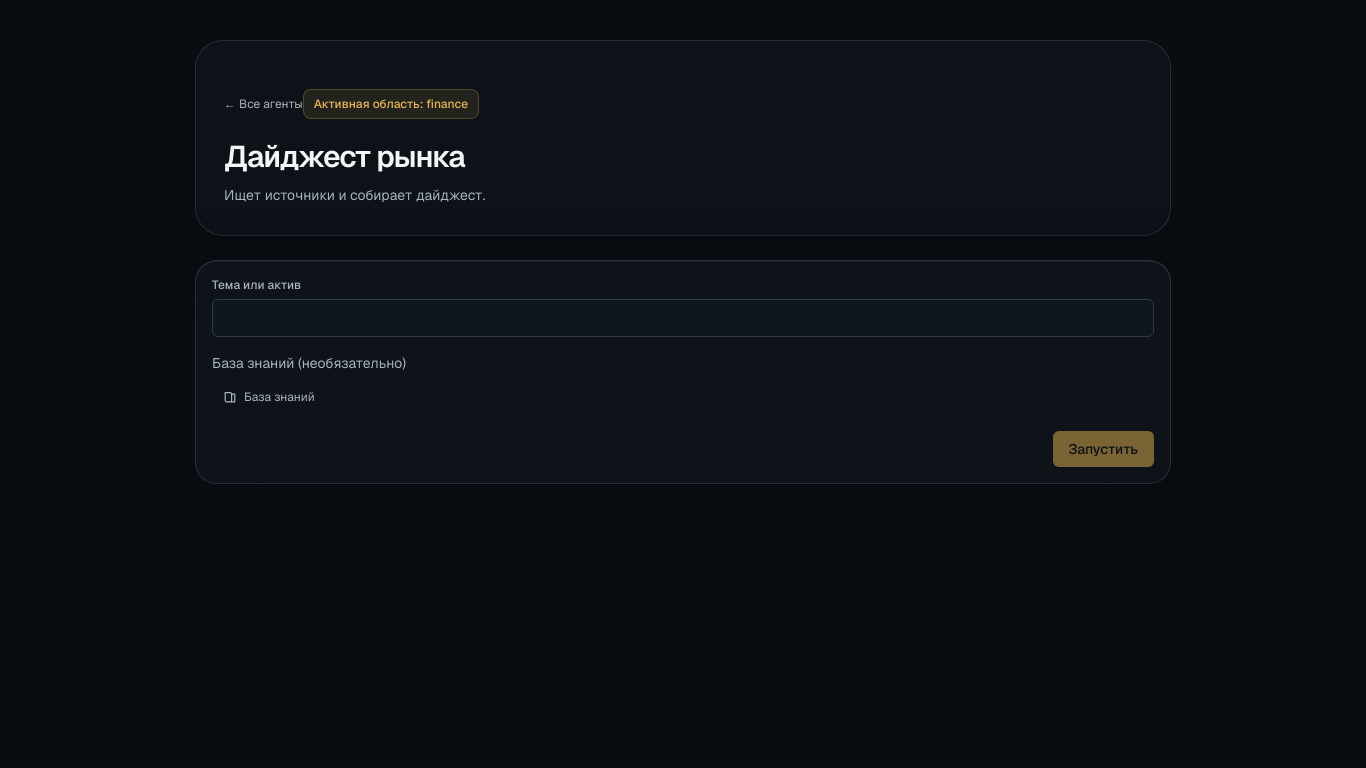
AgentRunPage › renders the finance-digest result shape, including the fixed disclaimer
Type "рынок облигаций РФ" into the field labelled "Тема или актив".
click(683, 318); type("рынок облигаций РФ")  # box 212,299 -> 1154,337
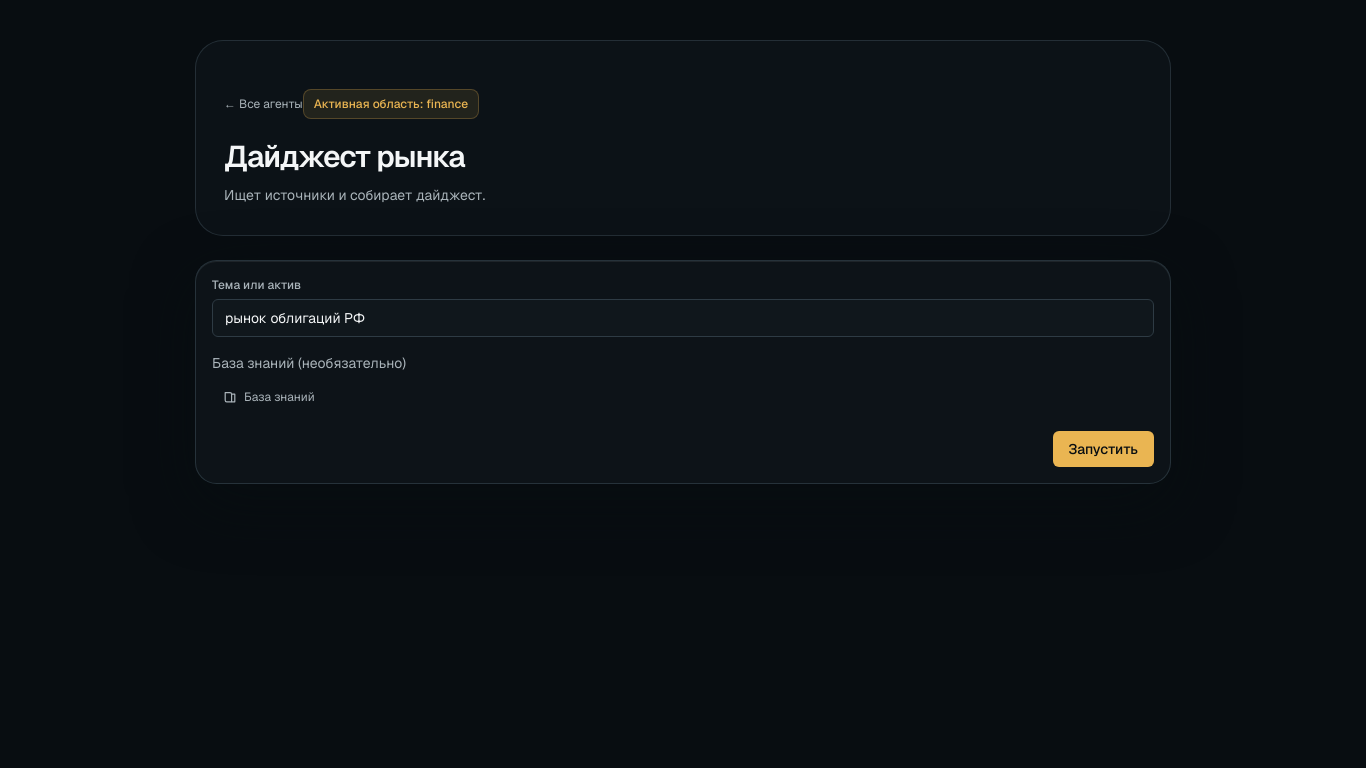
Click the button "Запустить".
click(1103, 449)  # box 1052,431 -> 1154,467
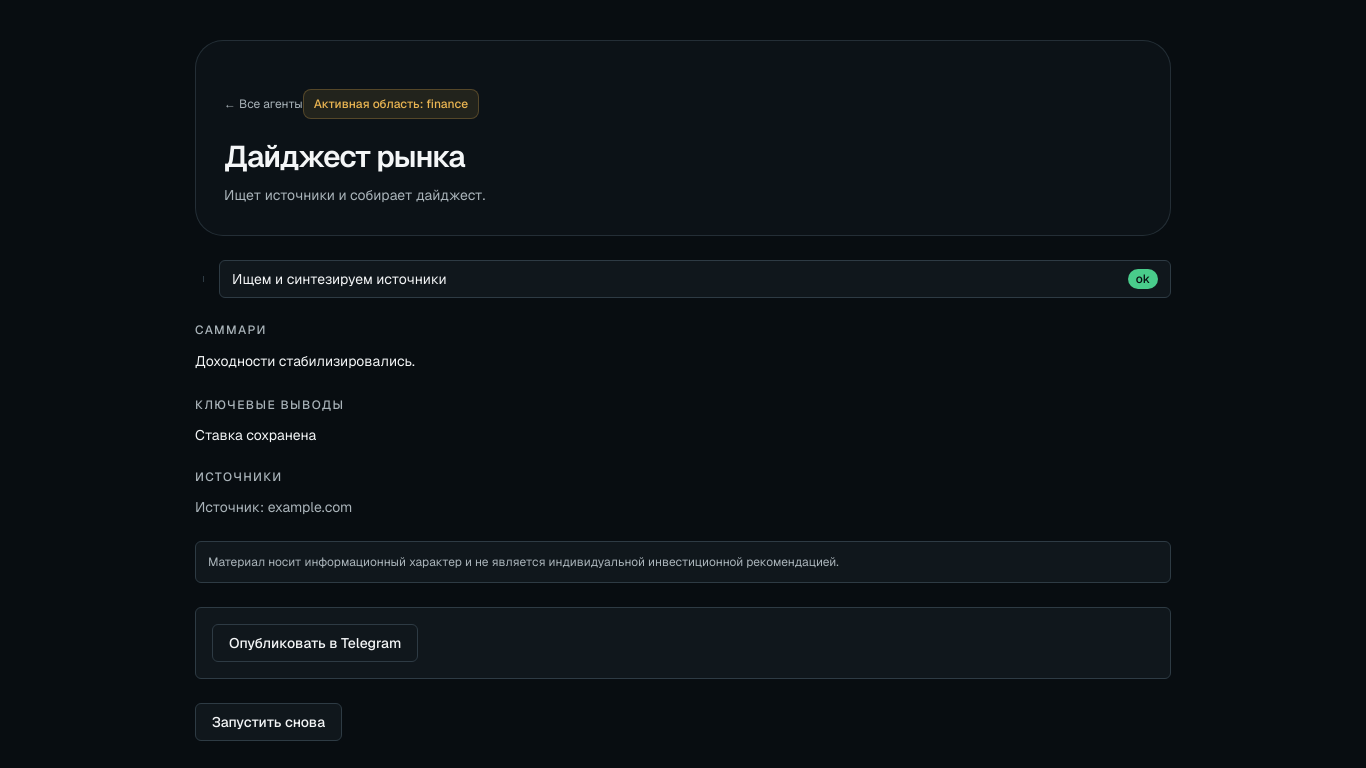
Expected: the text "Материал носит информационный характер и не является индивидуальной инвестиционной рекомендацией." is shown, 208,554 -> 839,570
